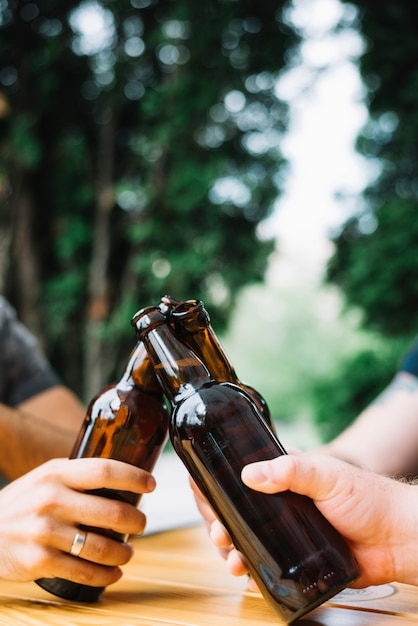alcohol: (129, 305, 361, 626), (32, 301, 174, 606), (163, 298, 288, 461)
